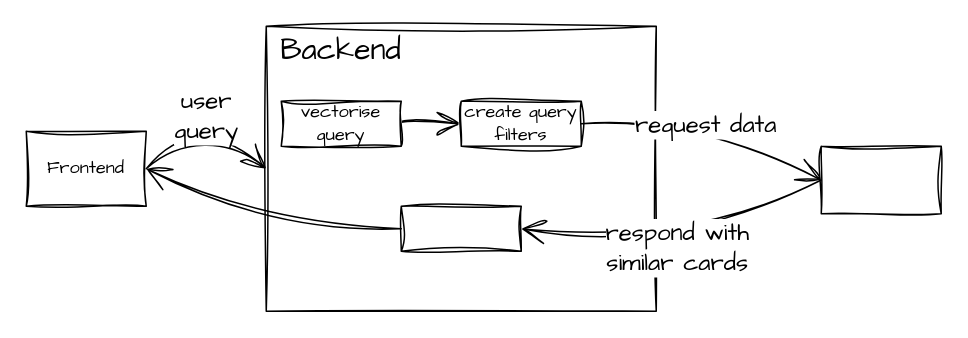
The diagram is 968 pixels wide and 338 high, and some of its shapes have lost their labels. Here are the shapes that lost their labels. From the top down, the box of each, then its label:
(820, 145, 941, 214): qdrant
(400, 205, 521, 251): apply sorting
